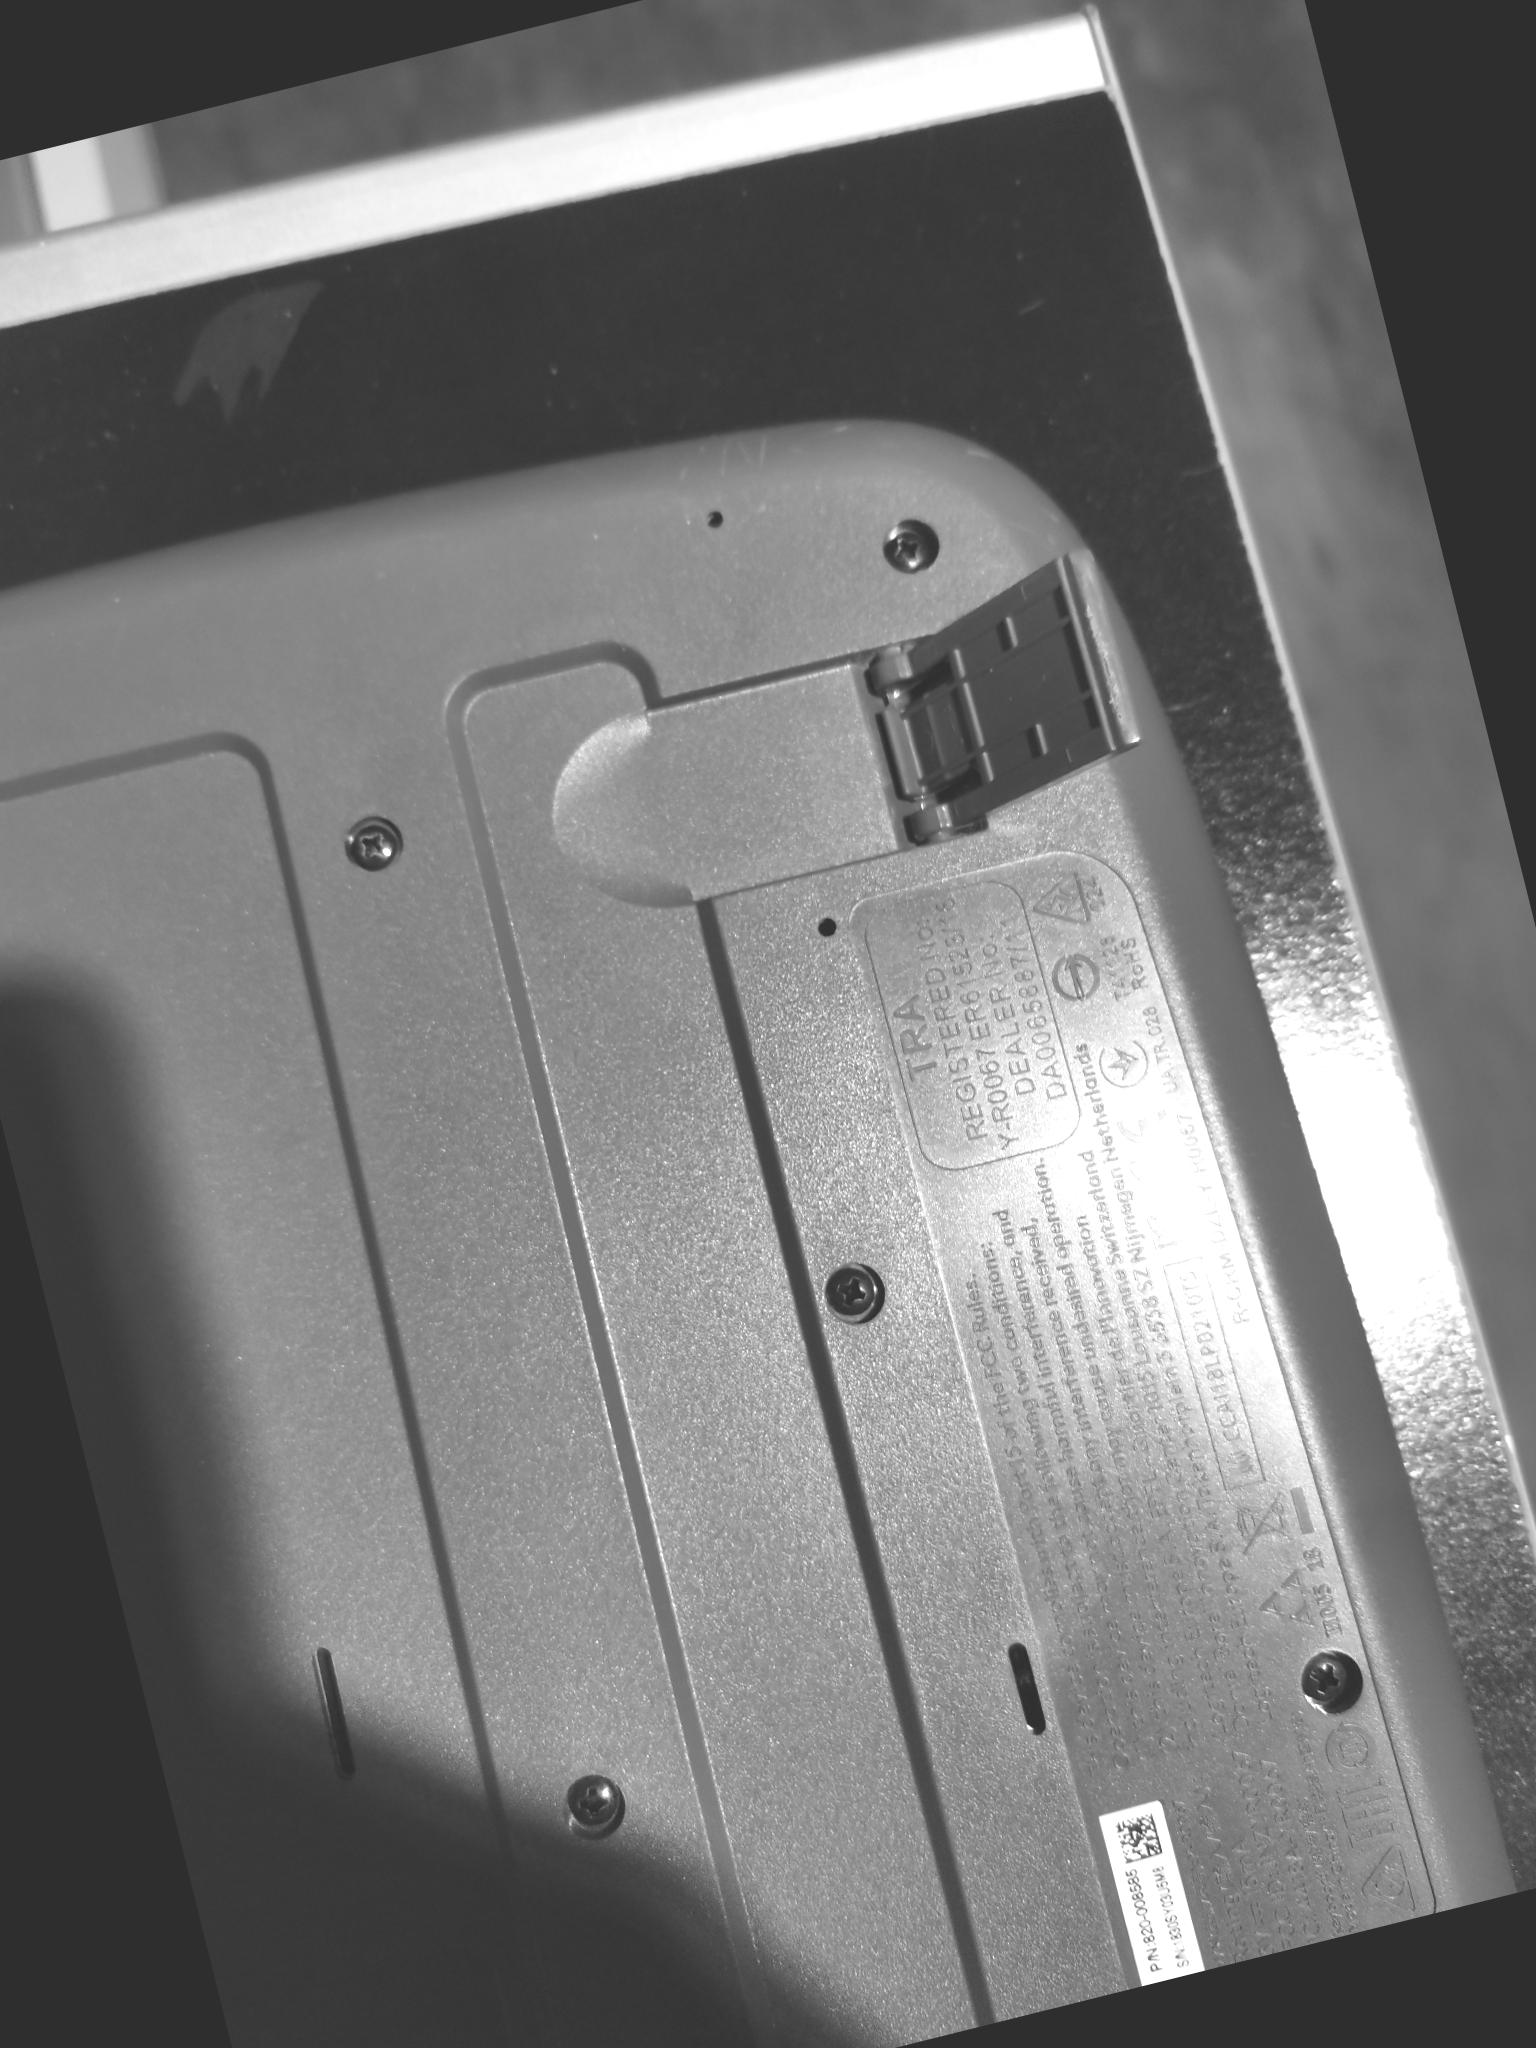screw: (1289, 1640, 1362, 1711), (558, 1766, 629, 1835), (874, 511, 944, 581), (815, 1256, 883, 1327), (339, 813, 405, 877)
